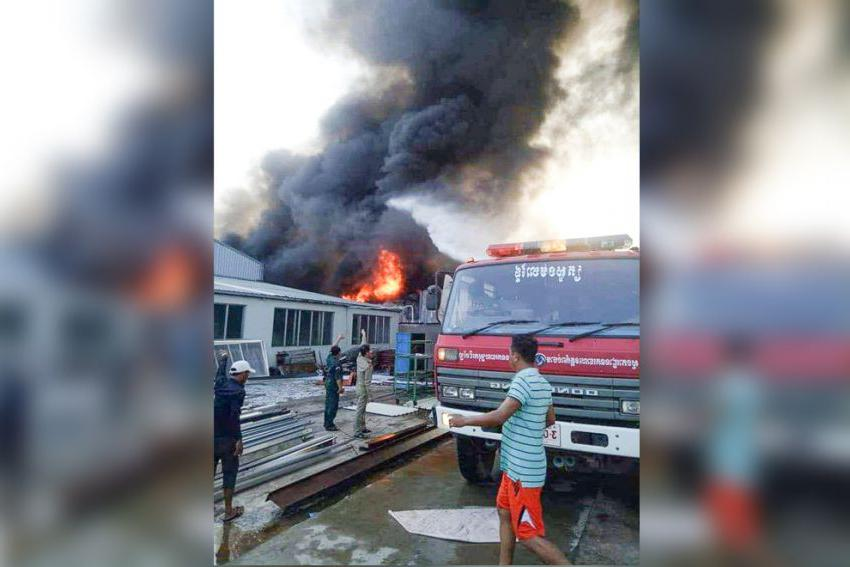fire: (342, 249, 418, 311)
